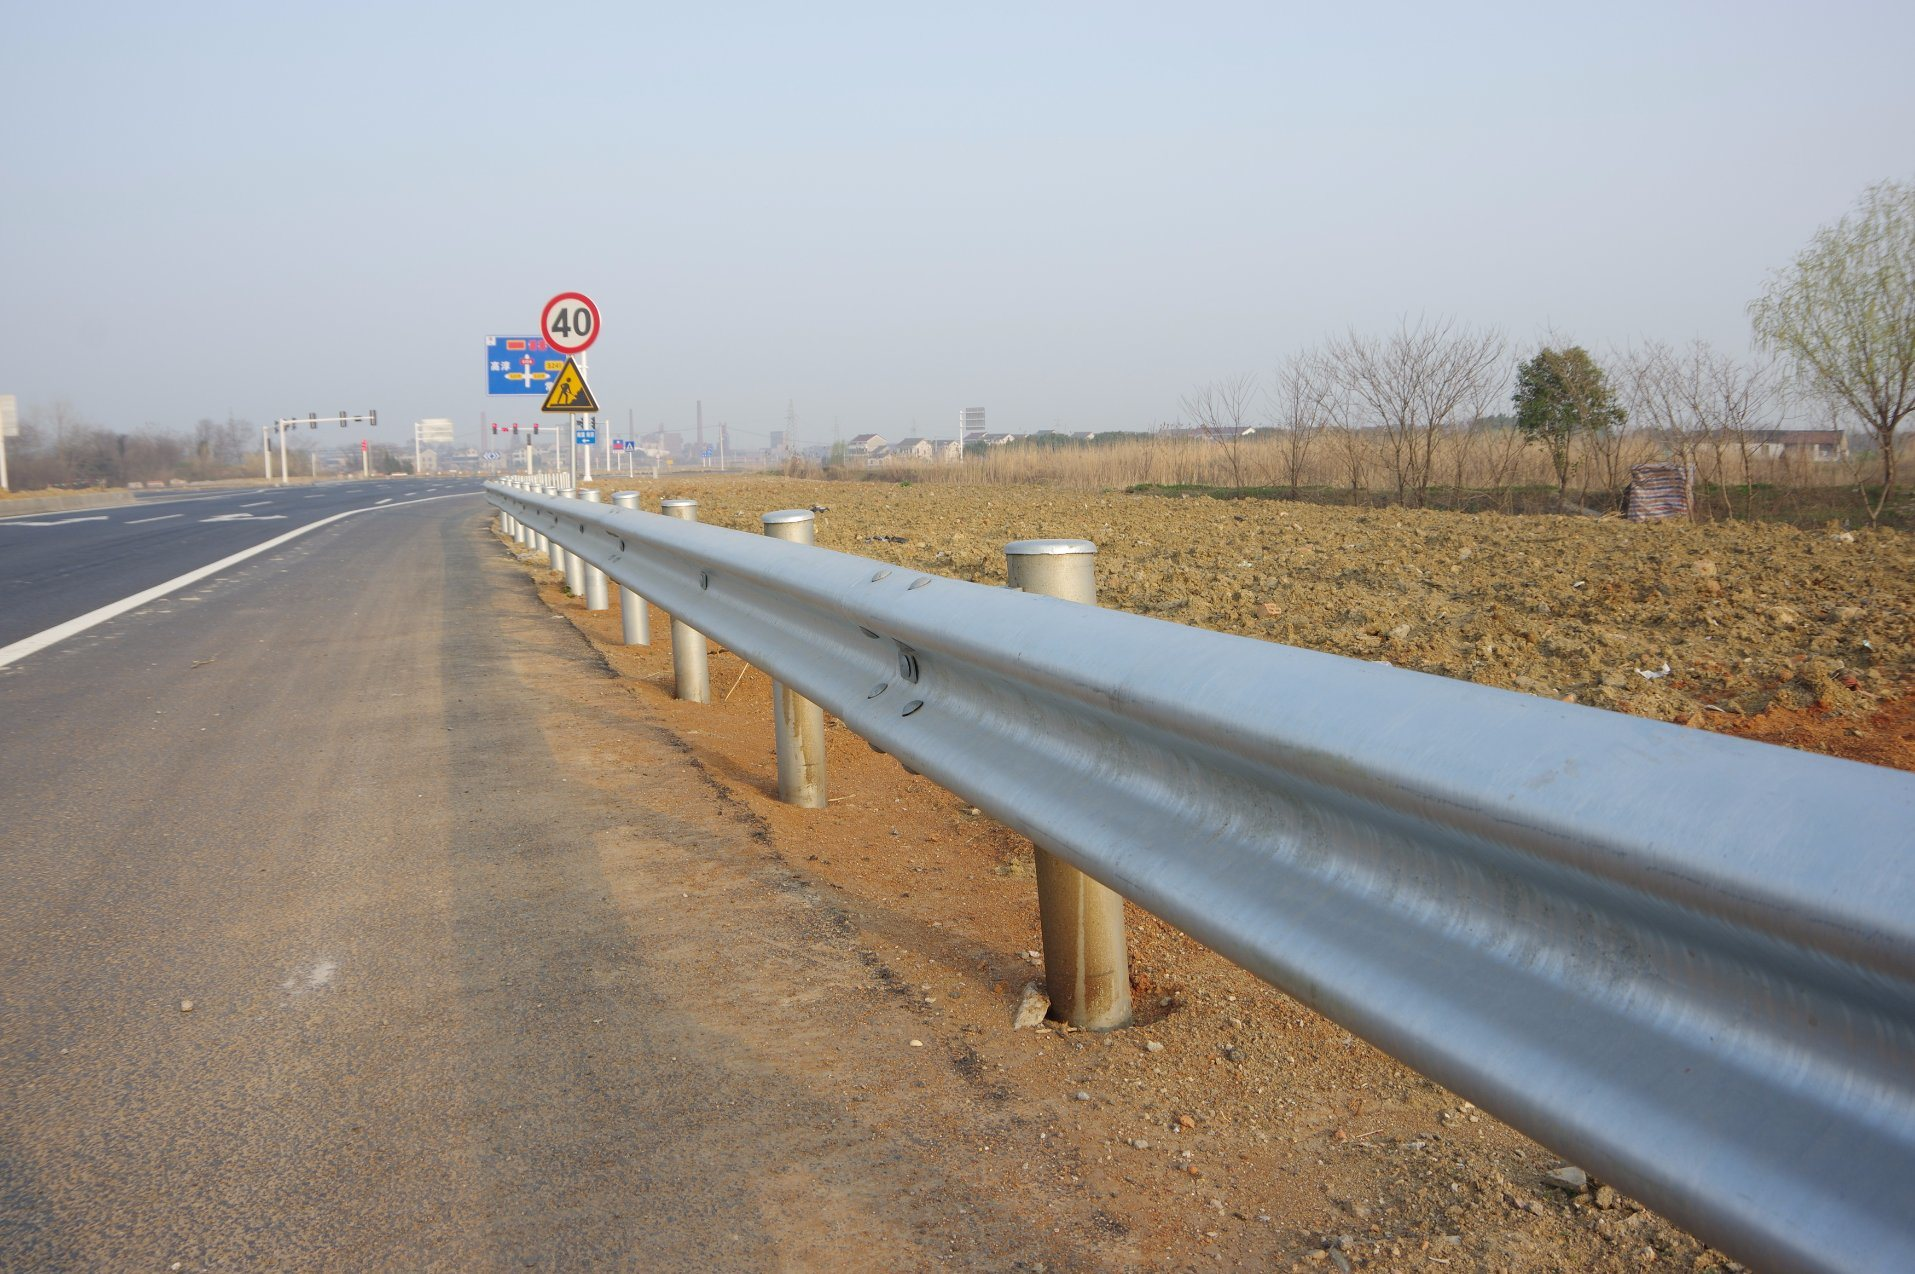not_damaged: (573, 378, 1656, 1162)
